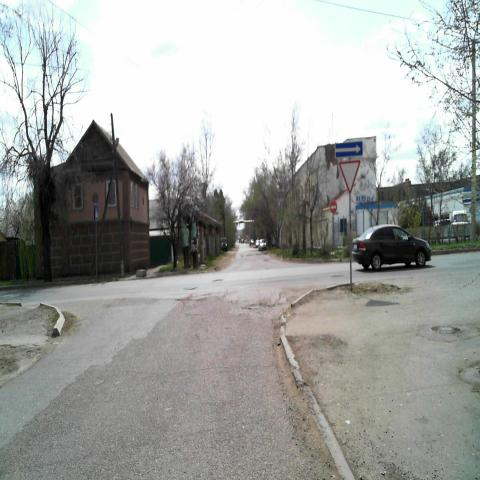3_1: (329, 198, 339, 214)
5_7_1: (335, 142, 363, 158)
